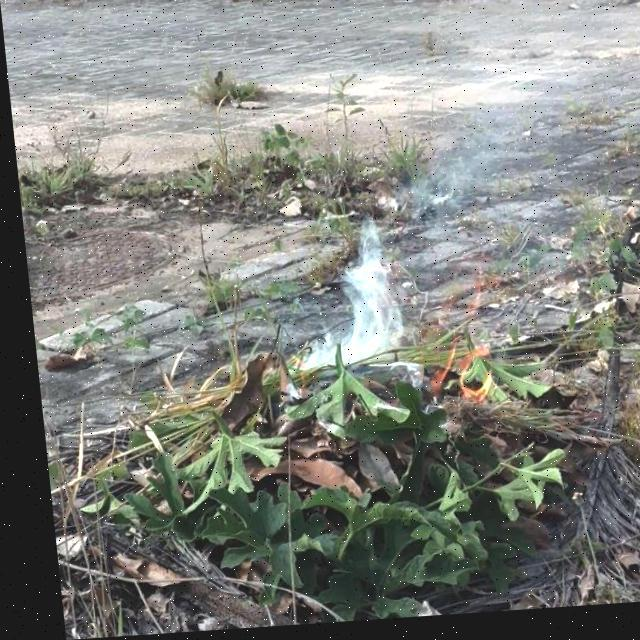Fire: (445, 347, 495, 409)
